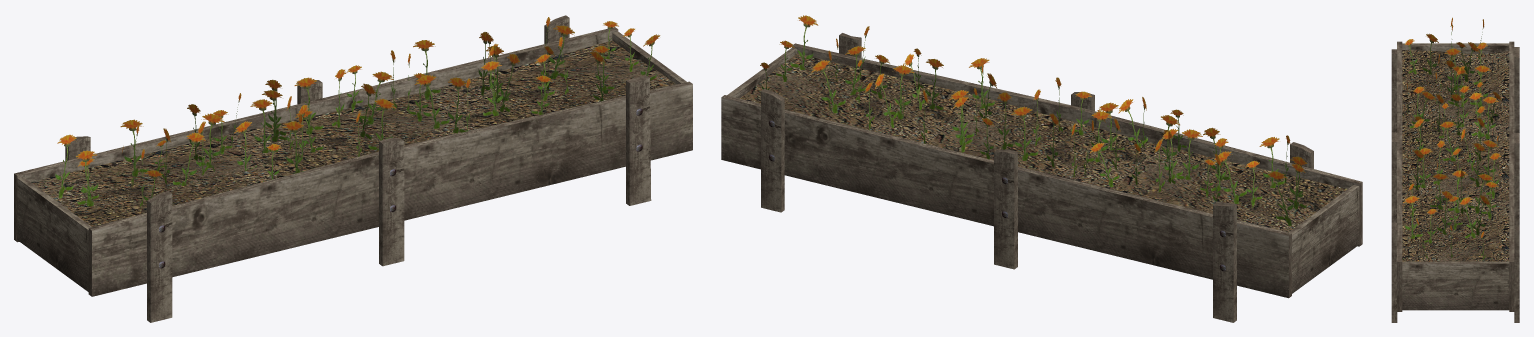
Rendered from Flowerbed_orange.dae.
3 views of the same model, side by side, from view 1: azimuth 30°, elevation 25°; view 2: azimuth 150°, elevation 25°; view 3: azimuth 270°, elevation 25° (orthographic). The views are drawn at different scales.
Parts seen in each view (by area): view 1: Flowerbed; view 2: Flowerbed; view 3: Flowerbed.
Boxes of the visible parts, box(x1,y1,x2,y2) form: Flowerbed: box(14, 15, 692, 322); Flowerbed: box(721, 15, 1362, 322); Flowerbed: box(1391, 17, 1519, 322).
Bounding box in the file's own units: 3.2 × 0.7724 × 0.7902.
1 material, 1 textured.
